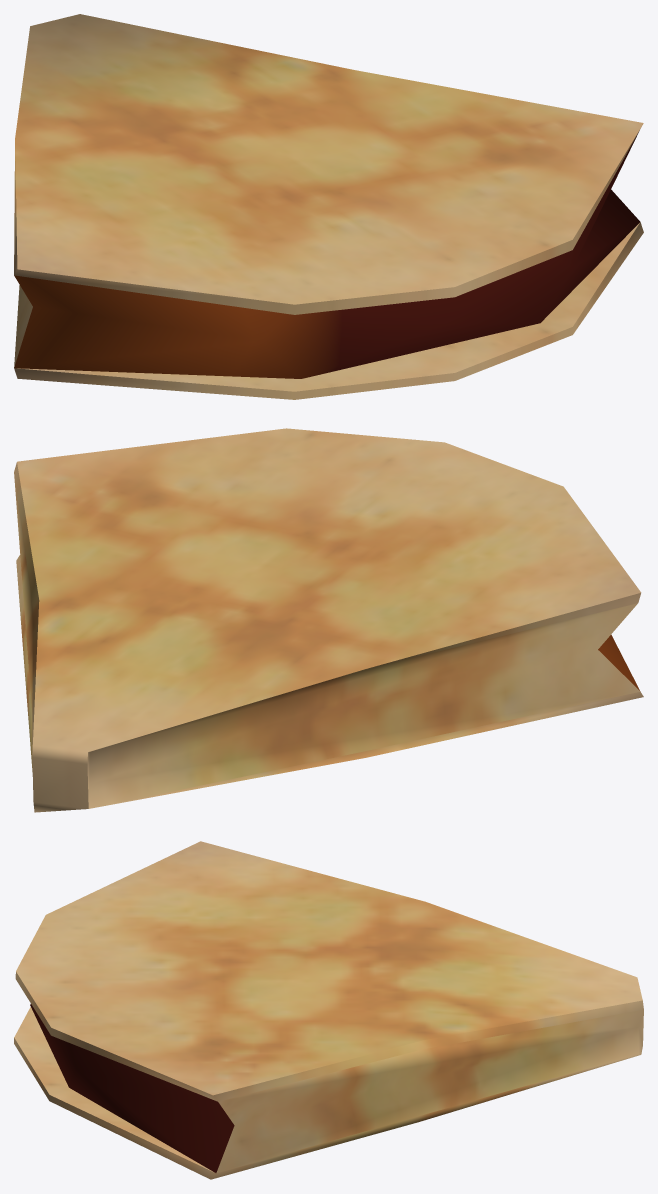
The model's file is CrepeEvolved_Sapph.fbx.
3 renders of one model, top to bottom at view 1: azimuth 30°, elevation 25°; view 2: azimuth 150°, elevation 25°; view 3: azimuth 270°, elevation 25°, orthographic. The views are drawn at different scales.
Parts seen in each view (by area): view 1: Taco; view 2: Taco; view 3: Taco.
Part boxes in pixels (x1,y1,x2,y2): Taco: [14, 14, 643, 399]; Taco: [14, 428, 643, 812]; Taco: [14, 841, 643, 1179].
Bounding box in the file's own units: 28.34 × 5.51 × 31.
